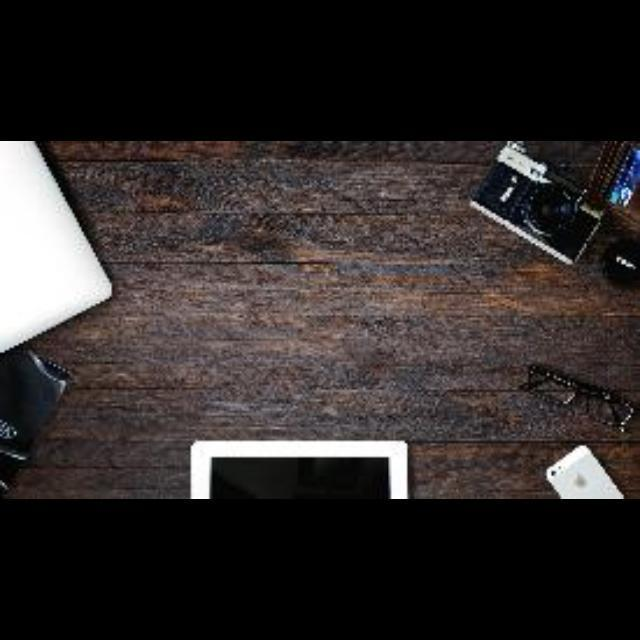PhoneUse: (546, 446, 626, 499)
